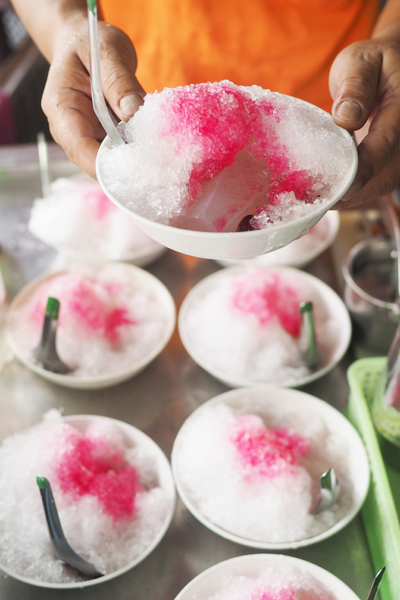O-eo: (100, 73, 359, 262), (168, 382, 375, 553), (4, 404, 172, 590), (14, 254, 180, 402)
